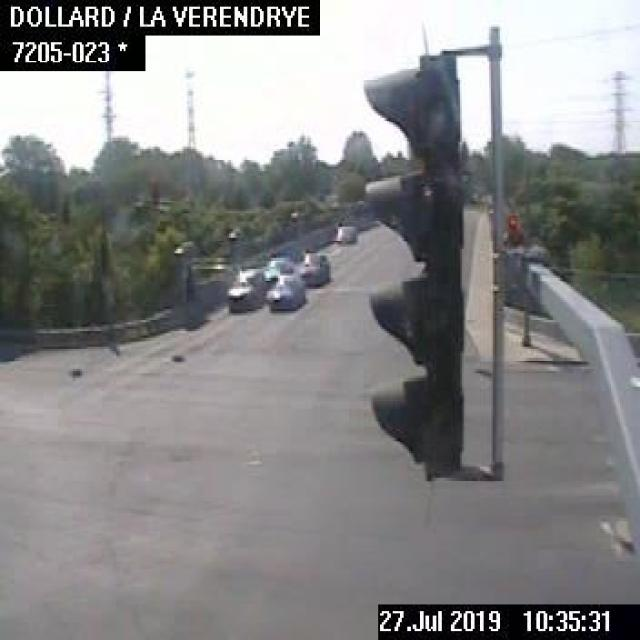vehicle: (224, 266, 264, 310), (264, 272, 304, 309), (298, 249, 328, 284), (331, 222, 358, 244), (264, 255, 296, 272)
